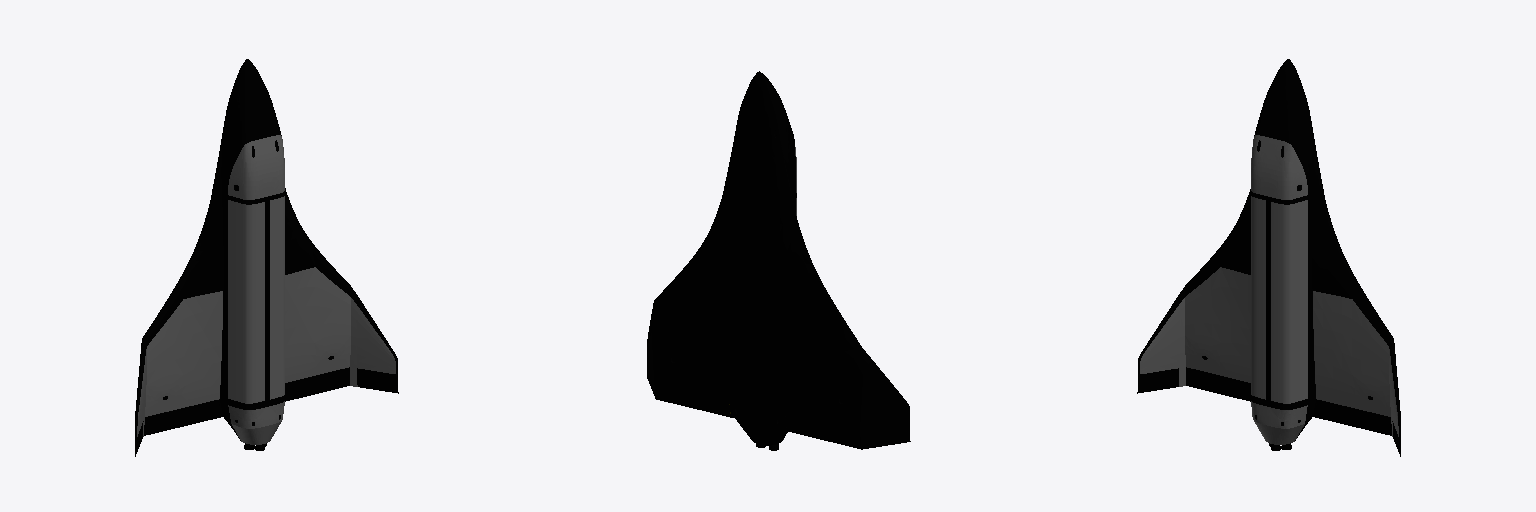
File: probe.obj
3 views of the same model, side by side, from view 1: azimuth 30°, elevation 25°; view 2: azimuth 150°, elevation 25°; view 3: azimuth 330°, elevation 25° (orthographic).
Visible parts, largest first — view 1: Cube.005, Cube.007, Cube.006, Cube.009, Cube.012, Cube.013, Cube.010; view 2: Cube.005, Cube.009, Cube.011, Cube.010, Cube.013; view 3: Cube.005, Cube.006, Cube.007, Cube.009, Cube.011, Cube.010, Cube.013.
Boxes of the visible parts, box(x1,y1,x2,y2) form: Cube.005: box(135, 59, 397, 450); Cube.007: box(228, 198, 267, 406); Cube.006: box(268, 194, 284, 402); Cube.009: box(183, 377, 310, 426); Cube.012: box(357, 368, 398, 393); Cube.013: box(144, 408, 183, 435); Cube.010: box(310, 367, 349, 395); Cube.005: box(647, 71, 909, 450); Cube.009: box(693, 391, 821, 439); Cube.011: box(869, 423, 910, 447); Cube.010: box(654, 381, 694, 408); Cube.013: box(821, 422, 861, 449); Cube.005: box(1138, 59, 1400, 450); Cube.006: box(1269, 198, 1307, 406); Cube.007: box(1251, 194, 1268, 402); Cube.009: box(1225, 377, 1352, 426); Cube.011: box(1137, 368, 1178, 393); Cube.010: box(1352, 408, 1391, 435); Cube.013: box(1186, 367, 1225, 395).
Size of the model in its own units: 2.14 by 2.96 by 0.3232.